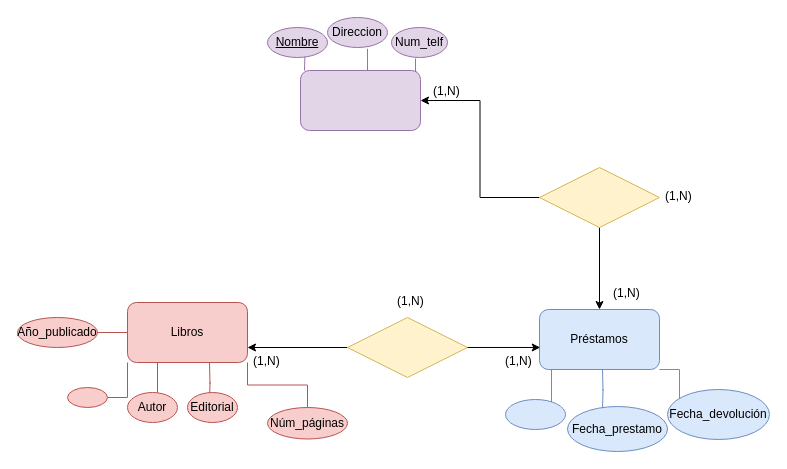
The diagram is 787 pixels wide and 469 high, and some of its shapes have lost their labels. The shapes that lost their labels are listed below. From the top down, each one's centre as x and y in pixels, then its label:
the point at 360,100: Usuarios
the point at 599,197: Tomar
the point at 407,347: Registrar
the point at 87,397: Título
the point at 535,414: Usuario
